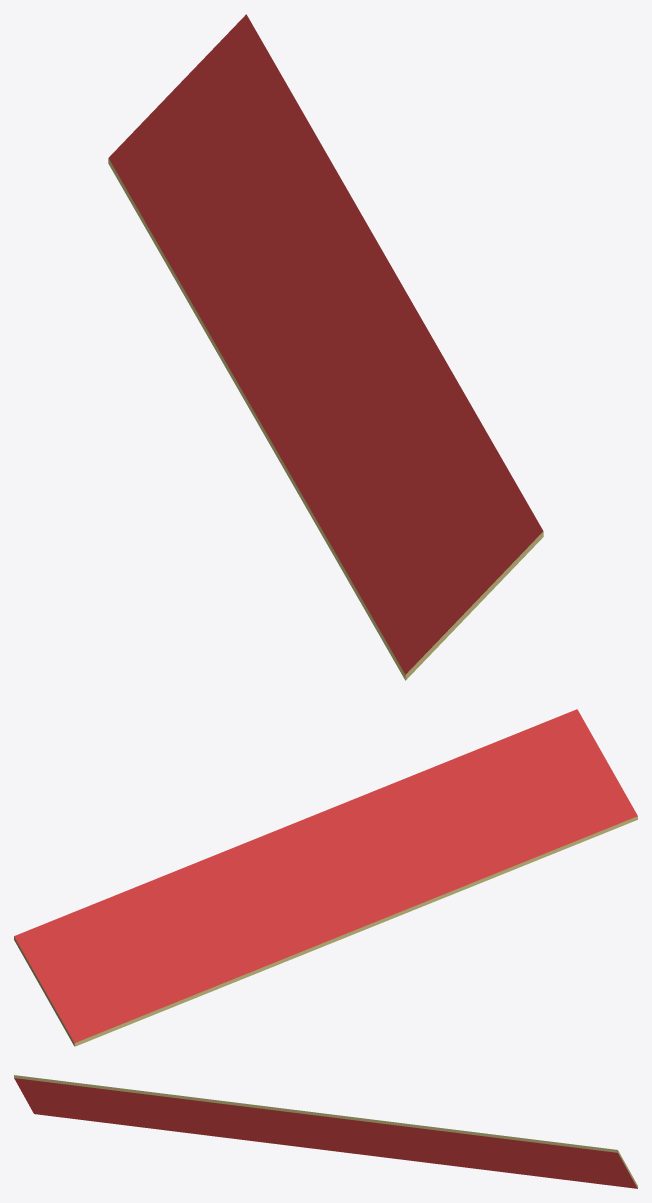
3 renders of one model, top to bottom at view 1: azimuth 30°, elevation 25°; view 2: azimuth 150°, elevation 25°; view 3: azimuth 270°, elevation 25°, orthographic. The views are drawn at different scales.
Size of the model in its own units: 7.47 by 19 by 2.28.
